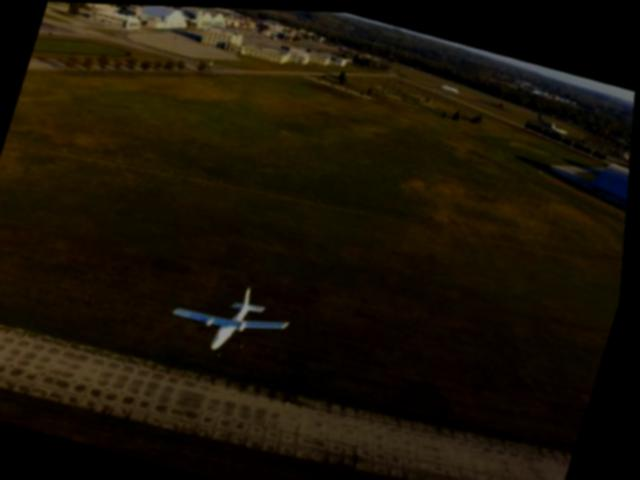uav: (167, 269, 300, 366)
